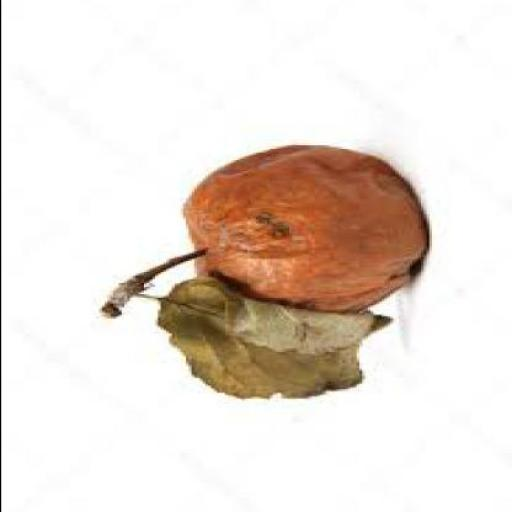biodegradable: (179, 148, 428, 320), (154, 277, 391, 402)
